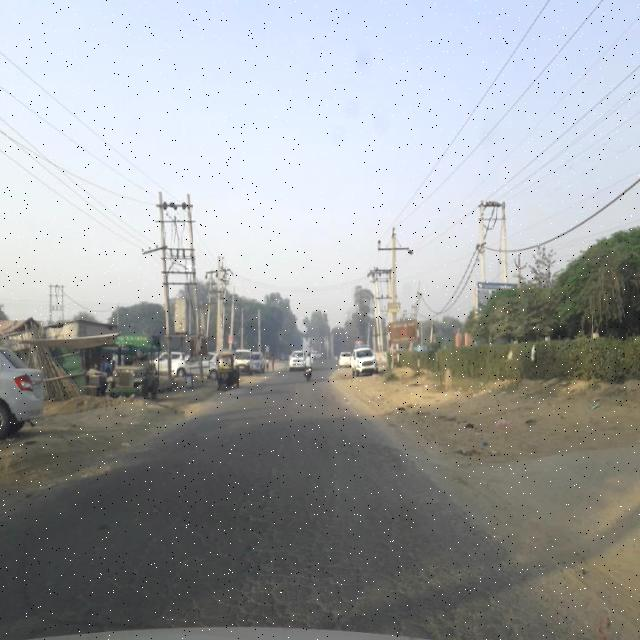D20: (17, 468, 533, 632)
